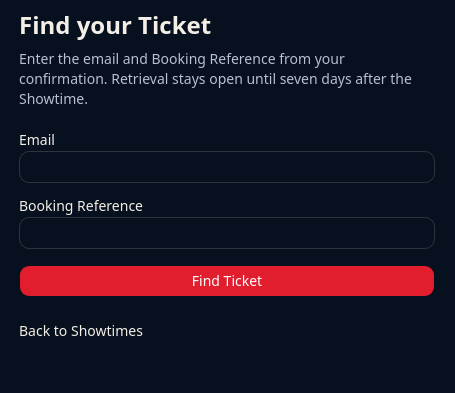
it: RetrieveTicketPage › shows a generic message for unexpected failures
Type "aisyah@example.com" into the field labelled "Email" at point(227, 167), box top-left (19, 151), bottom-right (435, 183)
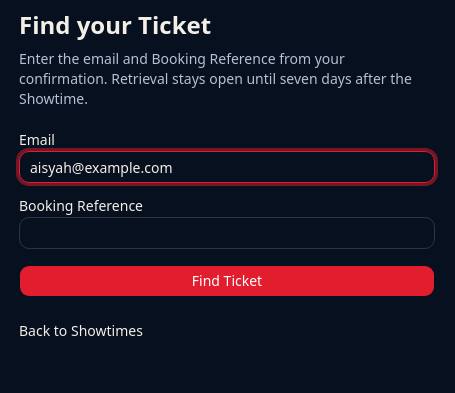
Type "K7QX2M9T4D" into the field labelled "Booking Reference" at point(227, 233), box top-left (19, 217), bottom-right (435, 249)
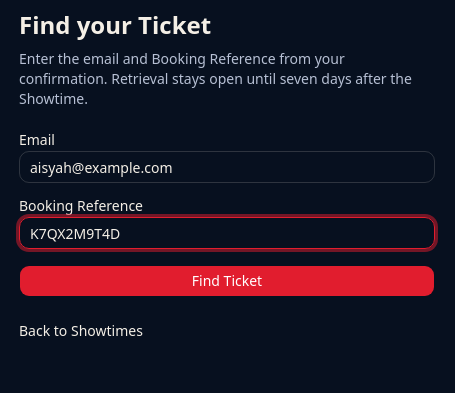
Click the button "Find Ticket" at point(227, 281), box top-left (19, 265), bottom-right (435, 297)
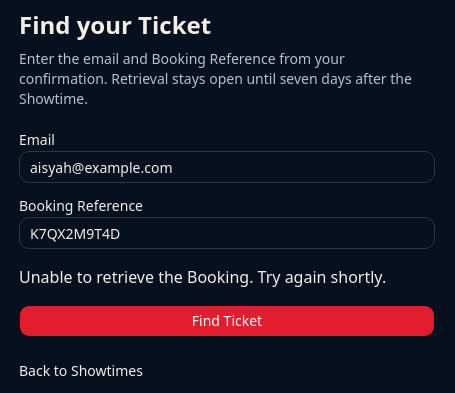
Now the message reads "Unable to retrieve the Booking. Try again shortly.", box top-left (19, 266), bottom-right (386, 288)
